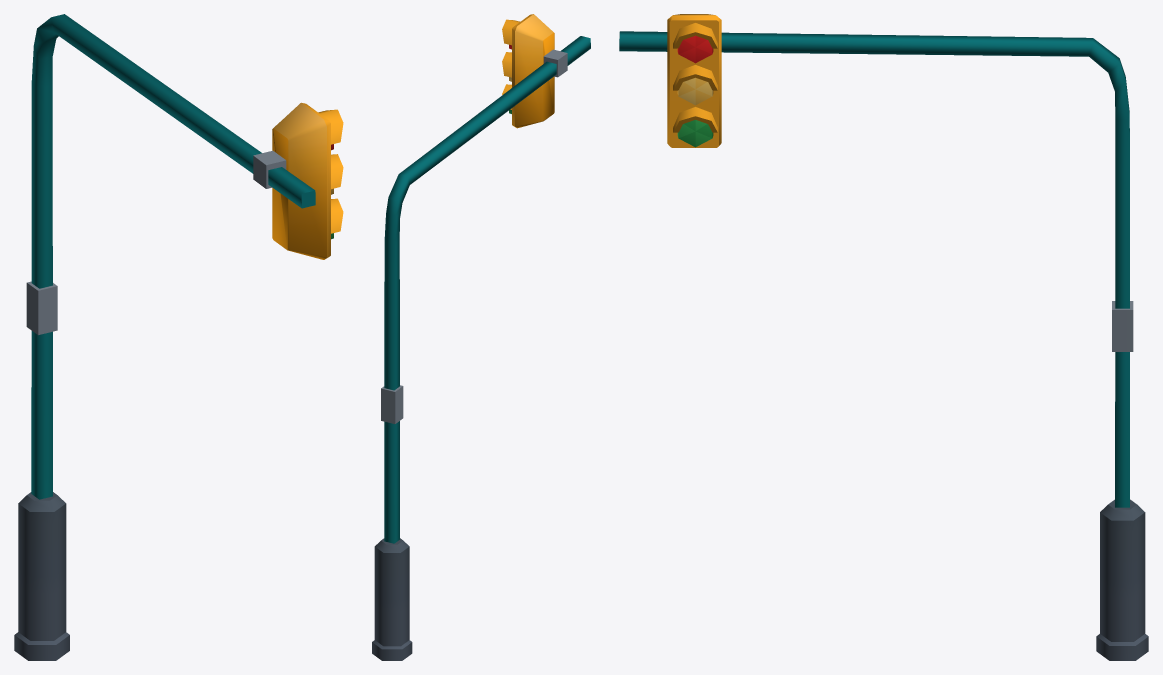
File: Lights_1_C.fbx
3 renders of one model, left to right at view 1: azimuth 30°, elevation 25°; view 2: azimuth 150°, elevation 25°; view 3: azimuth 270°, elevation 25°, orthographic. The views are drawn at different scales.
Parts seen in each view (by area): view 1: Lights_1_C; view 2: Lights_1_C; view 3: Lights_1_C.
Boxes of the visible parts, x1,y1,x2,y2 form: Lights_1_C: (14, 14, 343, 660); Lights_1_C: (372, 14, 590, 660); Lights_1_C: (619, 14, 1148, 660).
Bounding box in the file's own units: 59.74 × 440 × 322.
